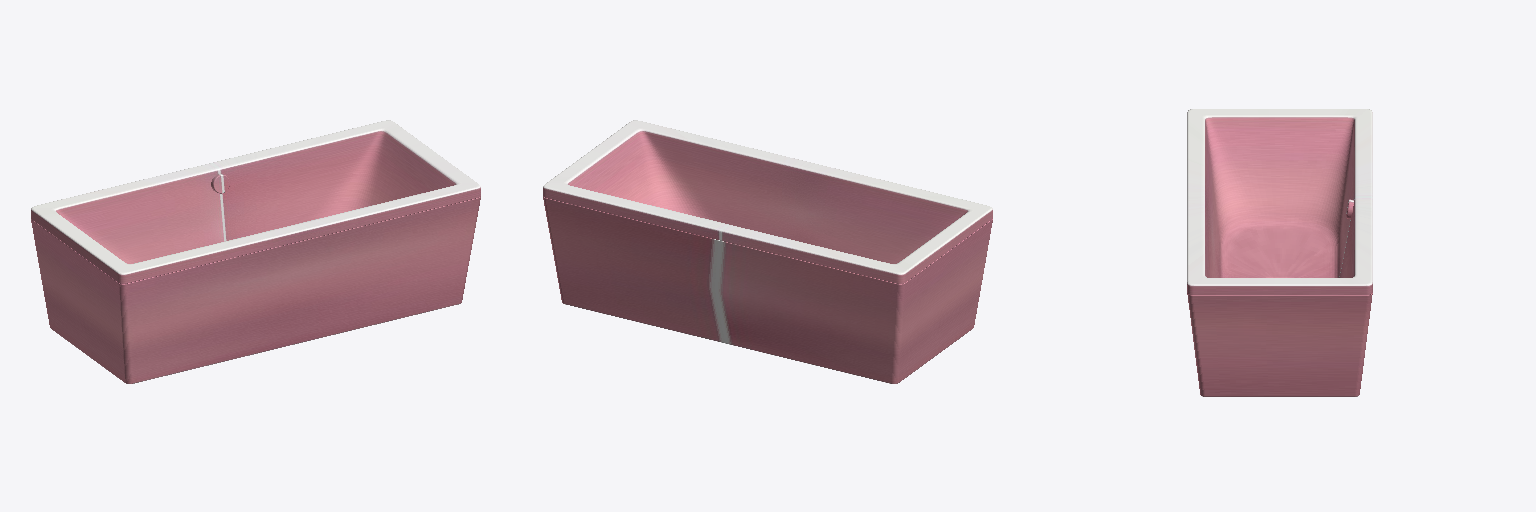
The picture shows the model from 3 angles: view 1: azimuth 30°, elevation 25°; view 2: azimuth 150°, elevation 25°; view 3: azimuth 270°, elevation 25°; orthographic projection.
Visible parts, largest first — view 1: Kaldewei_Conoduo_Bathtub; view 2: Kaldewei_Conoduo_Bathtub; view 3: Kaldewei_Conoduo_Bathtub.
Boxes of the visible parts, <box> form: Kaldewei_Conoduo_Bathtub: <box>31,120,480,383</box>; Kaldewei_Conoduo_Bathtub: <box>543,120,992,383</box>; Kaldewei_Conoduo_Bathtub: <box>1187,109,1372,396</box>.
Size of the model in its own units: 19.52 by 6.12 by 8.68.
Materials: 1 (1 with a texture image).